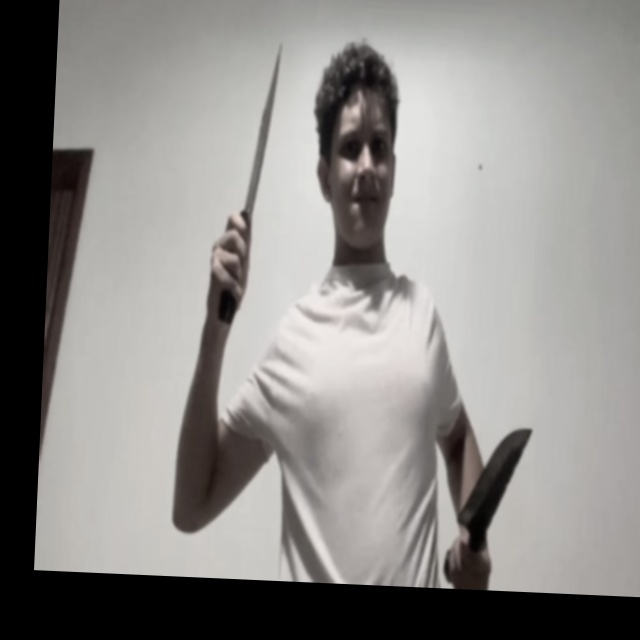Sharp-Object: (457, 424, 534, 526), (244, 44, 283, 215)
